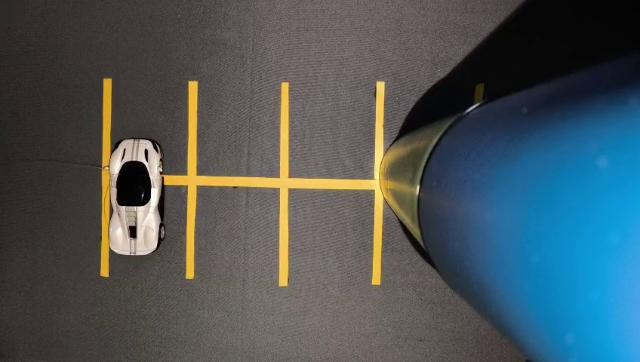toy_car: (93, 122, 196, 271)
